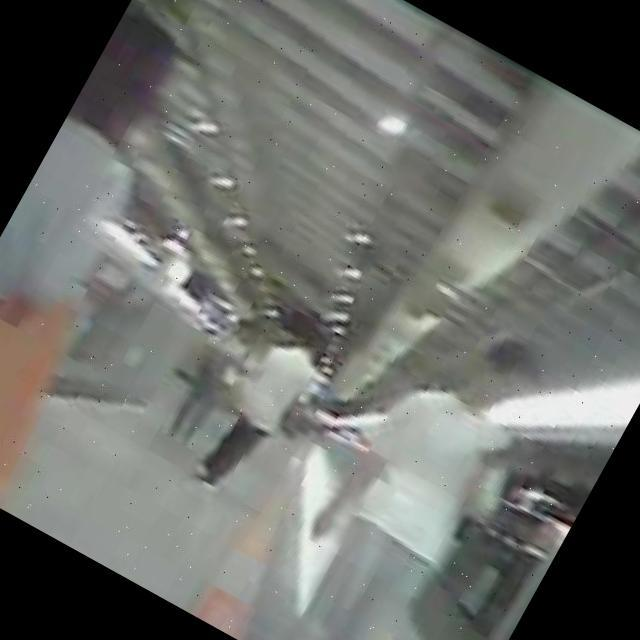person: (0, 0, 224, 495), (248, 302, 571, 640), (188, 317, 334, 508)
